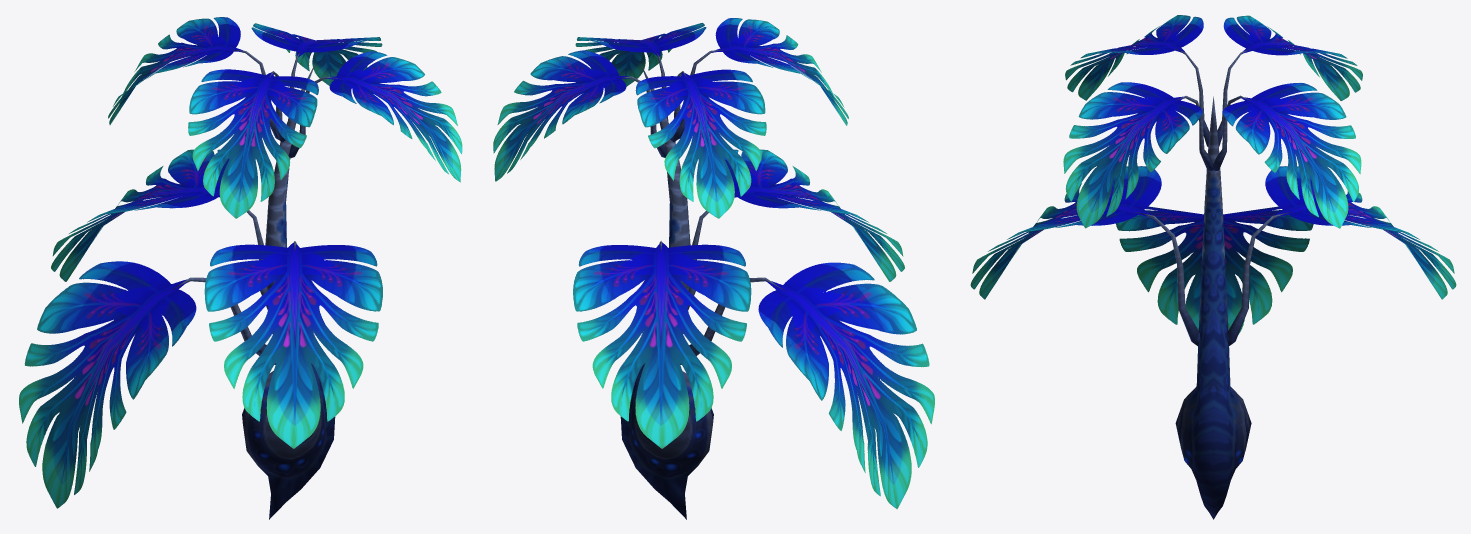
Rendered from Blue_Tree_03b.FBX.
The picture shows the model from 3 angles, left to right: view 1: azimuth 30°, elevation 25°; view 2: azimuth 150°, elevation 25°; view 3: azimuth 270°, elevation 25°; orthographic projection.
Parts seen in each view (by area): view 1: Blue_Tree_03b; view 2: Blue_Tree_03b; view 3: Blue_Tree_03b.
Boxes of the visible parts, box(x1,y1,x2,y2) form: Blue_Tree_03b: box(19, 17, 462, 519); Blue_Tree_03b: box(493, 18, 934, 519); Blue_Tree_03b: box(970, 15, 1456, 519).
Bounding box in the file's own units: 160 × 197 × 184.
